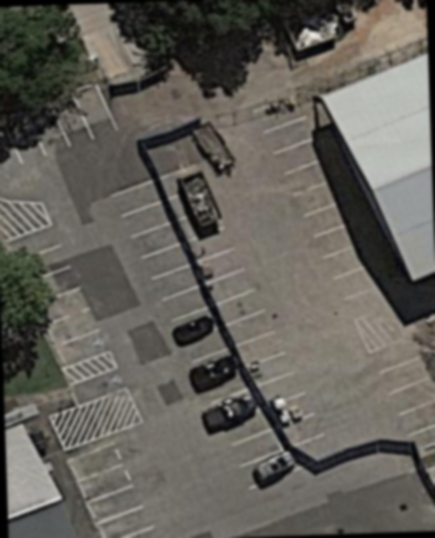parkingspot: (106, 176, 330, 491), (249, 91, 396, 305), (185, 224, 311, 407), (3, 221, 114, 370), (0, 81, 122, 176), (63, 436, 164, 538), (366, 333, 435, 440), (67, 364, 132, 408)
